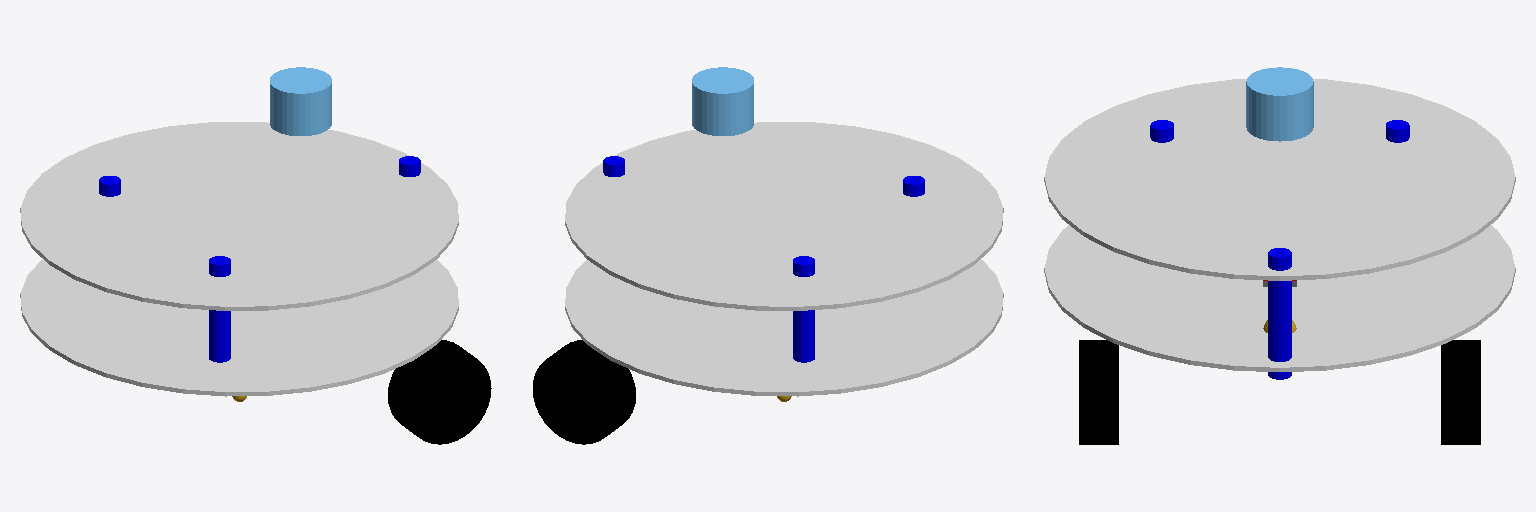
URDF robot description (custom_robot):
<?xml version="1.0"?>
<robot name="custom_robot">
  <material name="clear">
    <color rgba="0.9 0.9 0.9 0.3" />
  </material>
  <material name="blue">
    <color rgba="0 0 1 1" />
  </material>
  <material name="light_blue">
    <color rgba="0.5 0.8 1.0 1" />
  </material>
  <material name="grey">
    <color rgba="0.5 0.5 0.5 1" />
  </material>
  <material name="red">
    <color rgba="1 0 0 1" />
  </material>
  <material name="black">
    <color rgba="0 0 0 1" />
  </material>
  <material name="gold">
    <color rgba="0.85 0.65 0.1 1" />
  </material>
  <link name="base_footprint">
    <visual>
      <geometry>
        <sphere radius="0.005" />
      </geometry>
      <material name="gold" />
    </visual>
    <collision>
      <geometry>
        <sphere radius="0.005" />
      </geometry>
    </collision>
  </link>
  <link name="base_link">
    <visual>
      <geometry>
        <sphere radius="0.01" />
      </geometry>
      <material name="gold" />
    </visual>
    <collision>
      <geometry>
        <sphere radius="0.01" />
      </geometry>
    </collision>
  </link>
  <link name="bottom_plate">
    <visual>
      <geometry>
        <cylinder radius="0.14" length="0.003" />
      </geometry>
      <material name="clear" />
    </visual>
    <collision>
      <geometry>
        <cylinder radius="0.14" length="0.003" />
      </geometry>
    </collision>
  </link>
  <link name="top_plate">
    <visual>
      <geometry>
        <cylinder radius="0.14" length="0.003" />
      </geometry>
      <material name="clear" />
    </visual>
    <collision>
      <geometry>
        <cylinder radius="0.14" length="0.003" />
      </geometry>
    </collision>
  </link>
  <link name="support_post_1">
    <visual>
      <geometry>
        <cylinder radius="0.007" length="0.08" />
      </geometry>
      <material name="blue" />
    </visual>
    <collision>
      <geometry>
        <cylinder radius="0.007" length="0.08" />
      </geometry>
    </collision>
  </link>
  <link name="support_post_2">
    <visual>
      <geometry>
        <cylinder radius="0.007" length="0.08" />
      </geometry>
      <material name="blue" />
    </visual>
    <collision>
      <geometry>
        <cylinder radius="0.007" length="0.08" />
      </geometry>
    </collision>
  </link>
  <link name="support_post_3">
    <visual>
      <geometry>
        <cylinder radius="0.007" length="0.08" />
      </geometry>
      <material name="blue" />
    </visual>
    <collision>
      <geometry>
        <cylinder radius="0.007" length="0.08" />
      </geometry>
    </collision>
  </link>
  <link name="left_wheel">
    <visual>
      <origin rpy="1.57 0 0" />
      <geometry>
        <cylinder radius="0.03125" length="0.024" />
      </geometry>
      <material name="black" />
    </visual>
    <collision>
      <origin rpy="1.57 0 0" />
      <geometry>
        <cylinder radius="0.03125" length="0.024" />
      </geometry>
    </collision>
  </link>
  <link name="right_wheel">
    <visual>
      <origin rpy="1.57 0 0" />
      <geometry>
        <cylinder radius="0.03125" length="0.024" />
      </geometry>
      <material name="black" />
    </visual>
    <collision>
      <origin rpy="1.57 0 0" />
      <geometry>
        <cylinder radius="0.03125" length="0.024" />
      </geometry>
    </collision>
  </link>
  <link name="lidar">
    <visual>
      <geometry>
        <cylinder radius="0.02" length="0.03" />
      </geometry>
      <material name="light_blue" />
    </visual>
    <collision>
      <geometry>
        <cylinder radius="0.02" length="0.03" />
      </geometry>
    </collision>
  </link>
  <link name="imu_link">
    <visual>
      <geometry>
        <box size="0.02 0.02 0.01" />
      </geometry>
      <material name="grey" />
    </visual>
    <collision>
      <geometry>
        <box size="0.02 0.02 0.01" />
      </geometry>
    </collision>
  </link>
  <link name="front_marker">
    <visual>
      <geometry>
        <box size="0.04 0.02 0.001" />
      </geometry>
      <material name="red" />
    </visual>
    <collision>
      <geometry>
        <box size="0.04 0.02 0.001" />
      </geometry>
    </collision>
  </link>
  <joint name="base_footprint_to_base_link" type="fixed">
    <parent link="base_footprint" />
    <child link="base_link" />
    <origin xyz="0.085 0 0.065" />
  </joint>
  <joint name="base_link_to_left_wheel" type="continuous">
    <parent link="base_link" />
    <child link="left_wheel" />
    <origin xyz="0 0.1075 -0.04" />
    <axis xyz="0 1 0" />
  </joint>
  <joint name="base_link_to_right_wheel" type="continuous">
    <parent link="base_link" />
    <child link="right_wheel" />
    <origin xyz="0 -0.1075 -0.04" />
    <axis xyz="0 1 0" />
  </joint>
  <joint name="base_link_to_lidar" type="fixed">
    <parent link="base_link" />
    <child link="lidar" />
    <origin xyz="-0.04 0 0.13" />
  </joint>
  <joint name="base_link_to_imu_link" type="fixed">
    <parent link="base_link" />
    <child link="imu_link" />
    <origin xyz="-0.04 0 0.02" />
  </joint>
  <joint name="base_link_to_front_marker" type="fixed">
    <parent link="base_link" />
    <child link="front_marker" />
    <origin xyz="0.015 0 0.05" />
  </joint>
  <joint name="base_link_to_support_post_1" type="fixed">
    <parent link="base_link" />
    <child link="support_post_1" />
    <origin xyz="0.04 0 0.03" />
  </joint>
  <joint name="base_link_to_support_post_2" type="fixed">
    <parent link="base_link" />
    <child link="support_post_2" />
    <origin xyz="-0.14 0.07 0.03" />
  </joint>
  <joint name="base_link_to_support_post_3" type="fixed">
    <parent link="base_link" />
    <child link="support_post_3" />
    <origin xyz="-0.14 -0.07 0.03" />
  </joint>
  <joint name="base_footprint_to_bottom_plate" type="fixed">
    <parent link="base_footprint" />
    <child link="bottom_plate" />
    <origin xyz="0 0 0.065" />
  </joint>
  <joint name="bottom_plate_to_top_plate" type="fixed">
    <parent link="bottom_plate" />
    <child link="top_plate" />
    <origin xyz="0 0 0.06" />
  </joint>
</robot>

--- Facts derived from the render (not from the file) ---
The picture shows the robot from 3 angles, left to right: view 1: azimuth 30°, elevation 25°; view 2: azimuth 150°, elevation 25°; view 3: azimuth 270°, elevation 25°; orthographic projection.
Model custom_robot with 12 links and 11 joints (2 continuous, 9 fixed), rooted at base_footprint, posed all joints at 0.
Visible links, largest first — view 1: top_plate, bottom_plate, right_wheel, lidar, support_post_3; view 2: top_plate, bottom_plate, left_wheel, lidar, support_post_2; view 3: top_plate, bottom_plate, lidar, left_wheel, right_wheel, support_post_1.
Link boxes in pixels (x1,y1,x2,y2): top_plate: (20, 122, 458, 310); bottom_plate: (20, 259, 458, 396); right_wheel: (388, 340, 491, 444); lidar: (270, 67, 331, 135); support_post_3: (209, 256, 230, 362); top_plate: (565, 122, 1003, 310); bottom_plate: (565, 259, 1003, 396); left_wheel: (533, 340, 635, 444); lidar: (692, 67, 753, 135); support_post_2: (793, 256, 814, 362); top_plate: (1044, 79, 1515, 280); bottom_plate: (1044, 225, 1515, 371); lidar: (1246, 67, 1313, 141); left_wheel: (1441, 340, 1480, 444); right_wheel: (1079, 340, 1118, 444); support_post_1: (1268, 248, 1291, 379).
Bounding box of the posed robot: 0.28 × 0.28 × 0.2163 m (x, y, z).
Geometry: primitives only (box / cylinder / sphere), no mesh files.